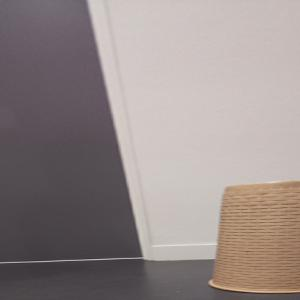medium: (211, 179, 300, 294)
